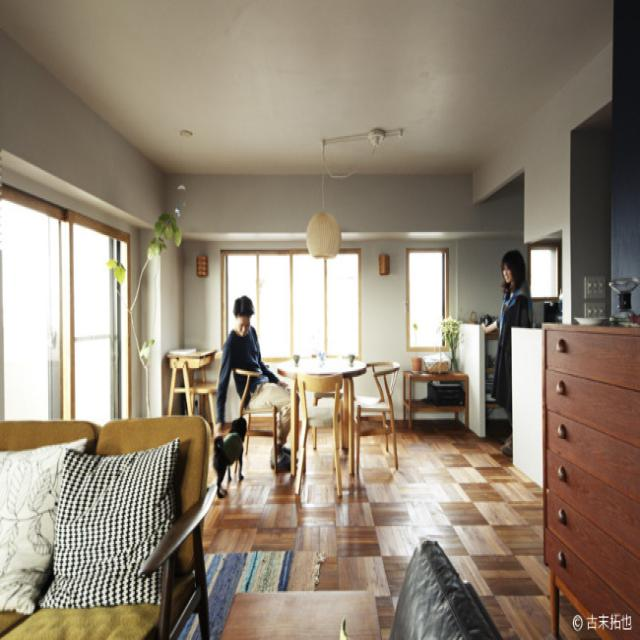vintage chair: (292, 371, 346, 507), (362, 344, 400, 474)
vintage desk: (275, 362, 359, 495)
vintage shelf: (537, 315, 640, 634), (404, 364, 473, 434)
vintage sofa: (2, 411, 213, 640)
